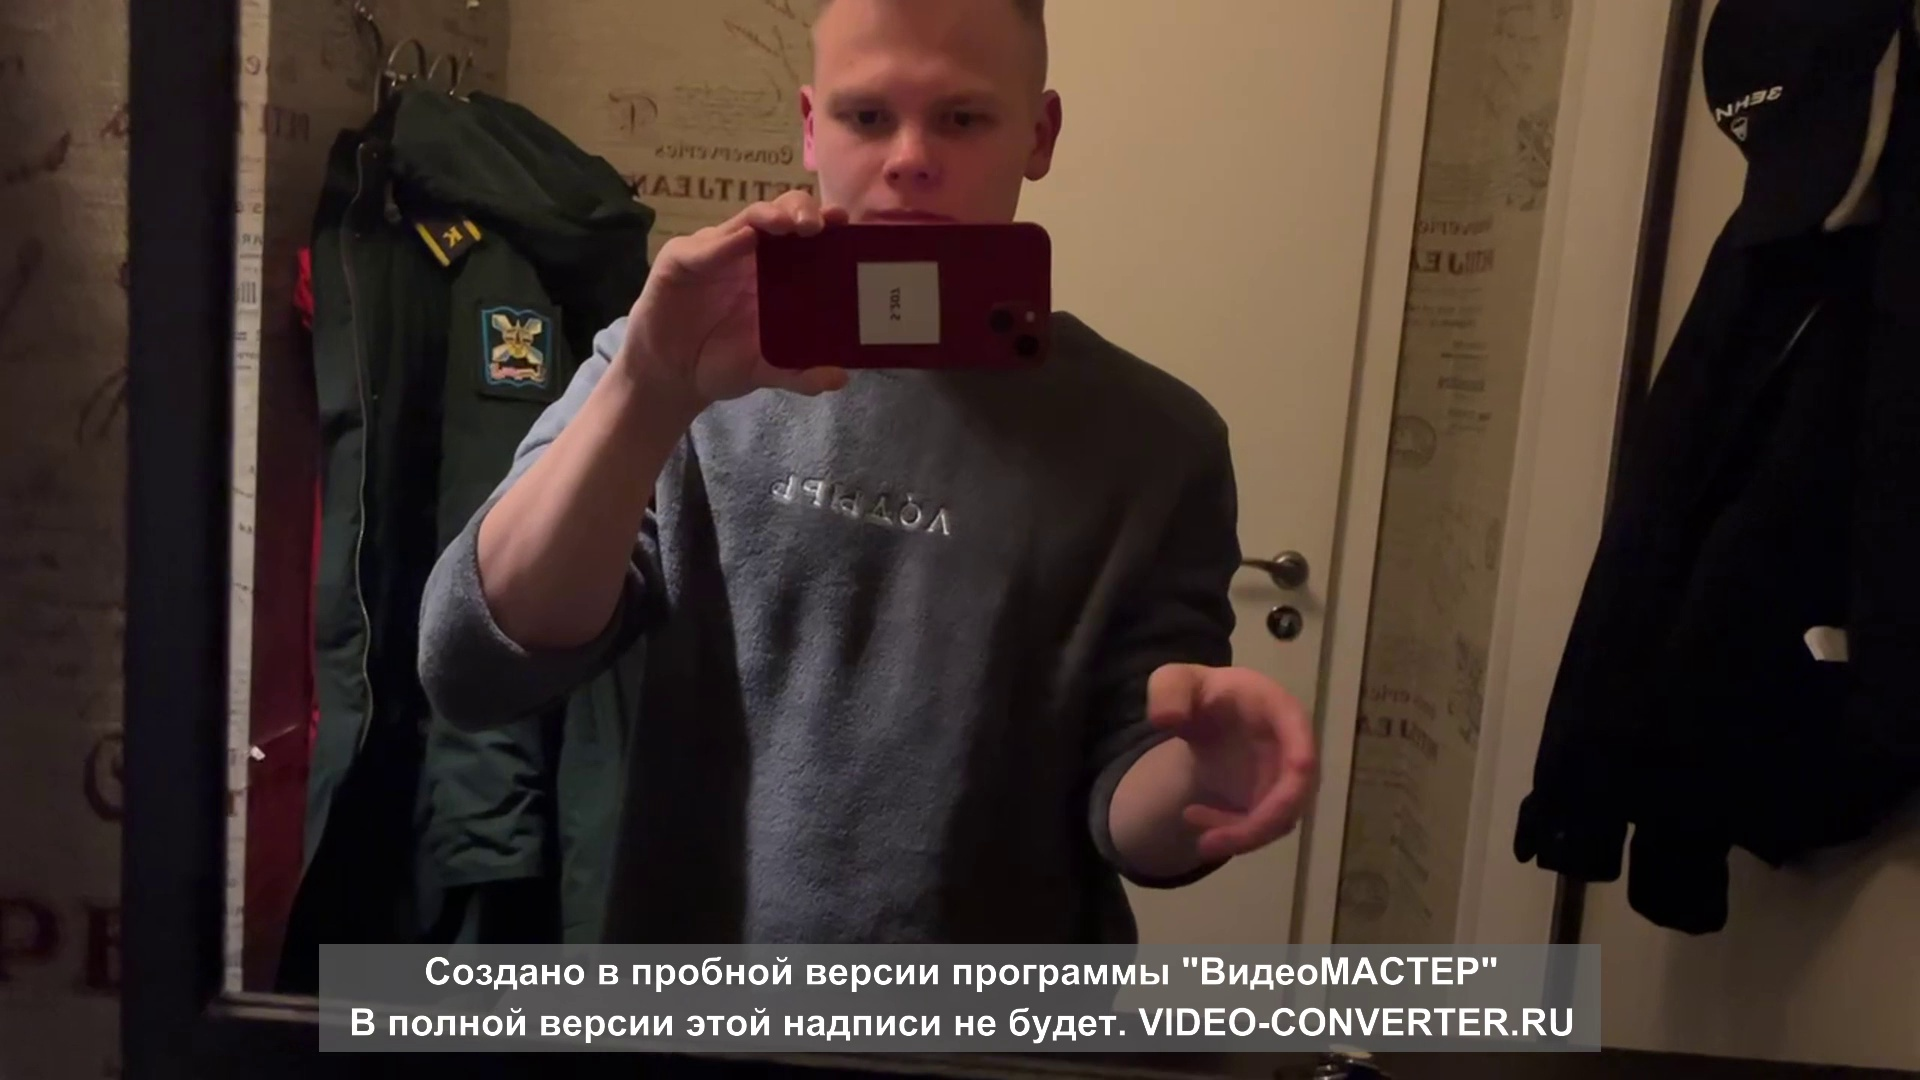Ладонь: (1145, 659, 1316, 856)
